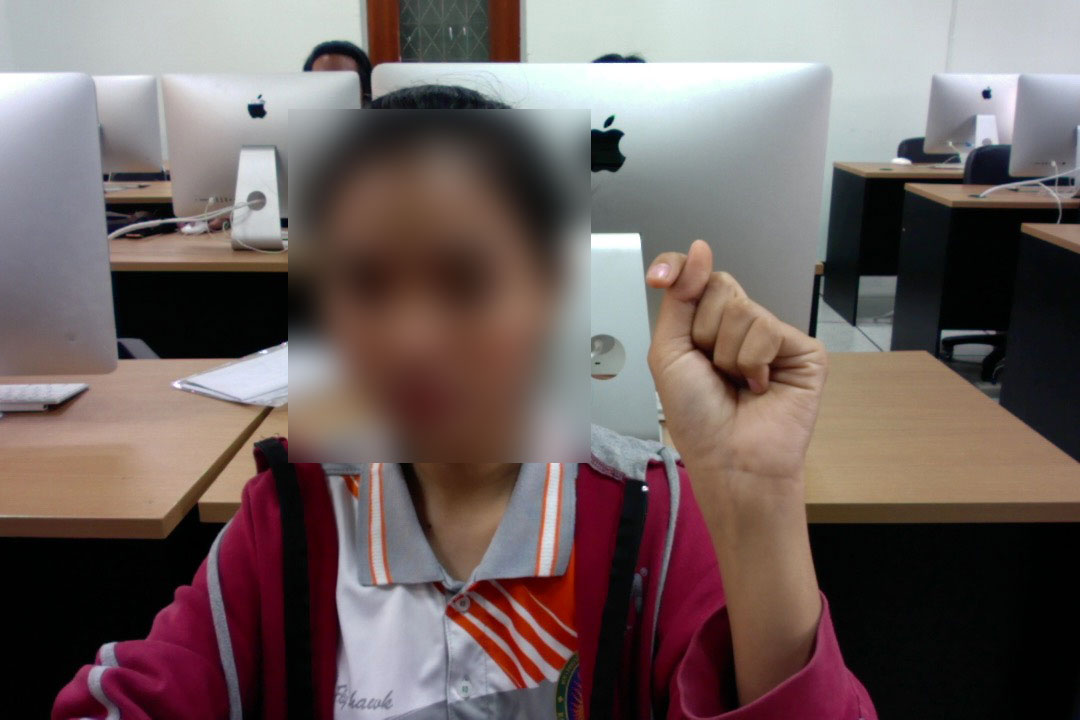tor: (641, 230, 836, 506)
